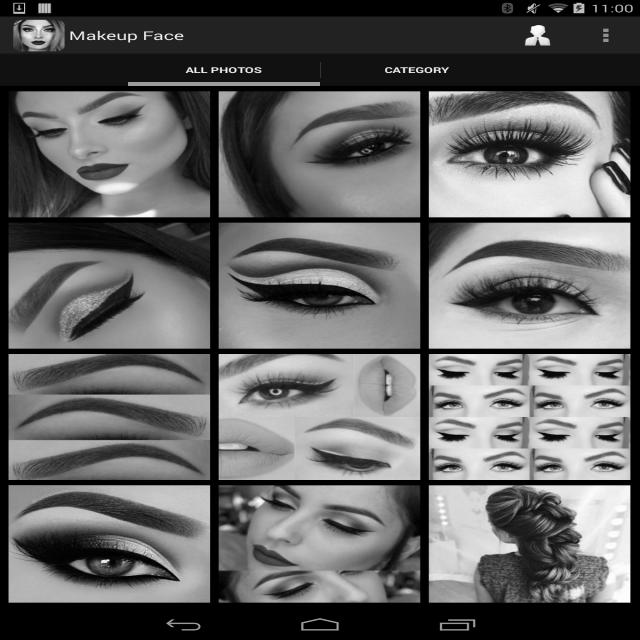ImageView: (219, 91, 420, 218), (429, 91, 630, 218), (9, 222, 210, 348), (219, 222, 420, 348), (429, 222, 630, 348), (9, 354, 210, 480), (219, 354, 420, 480), (429, 354, 630, 480), (9, 486, 210, 612), (219, 486, 420, 612), (429, 486, 630, 612), (14, 19, 64, 52)
TextView: (571, 16, 640, 54), (503, 17, 572, 54), (69, 27, 184, 43), (185, 64, 262, 76), (384, 64, 450, 76)
